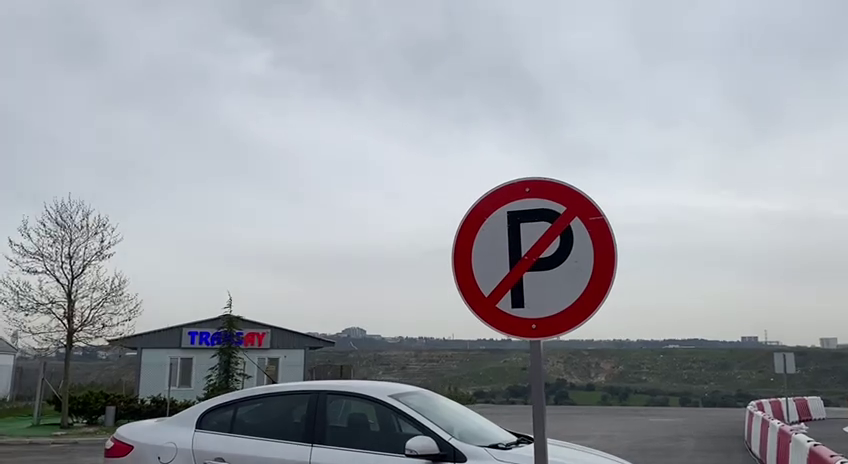noparking: (448, 172, 622, 343)
